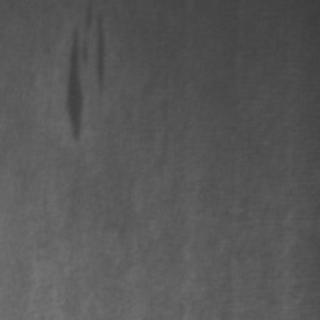inclusion: (54, 0, 114, 144)
